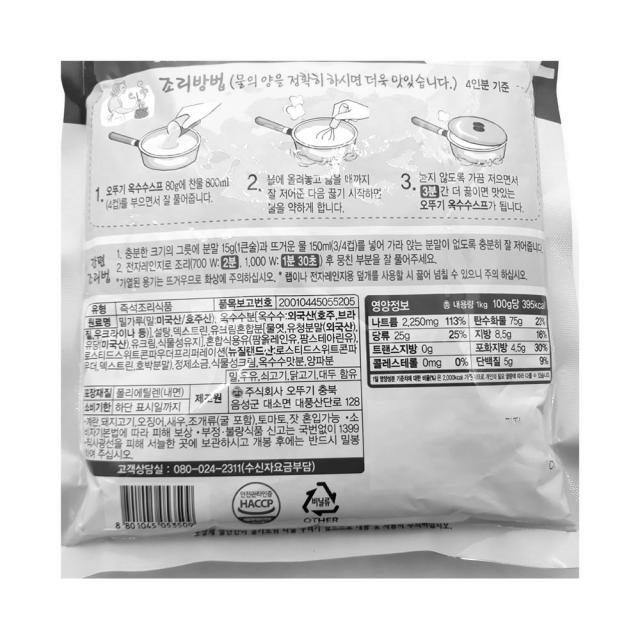Nutrition Label: (362, 287, 561, 399)
